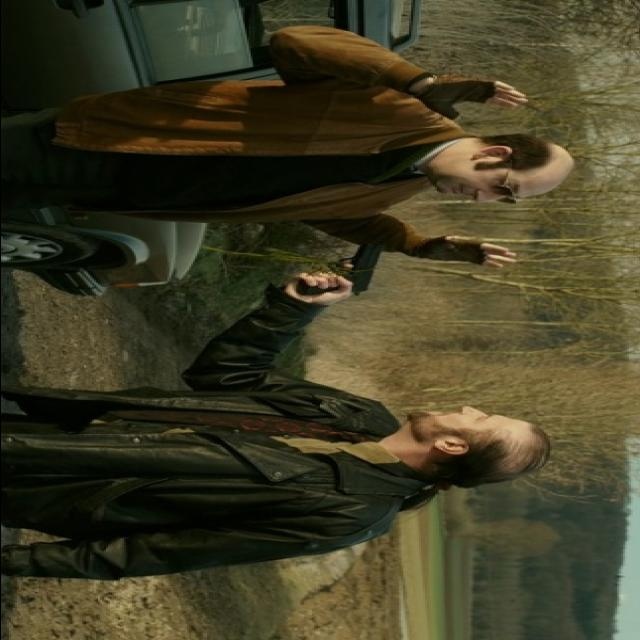weapons: (270, 233, 398, 309)
